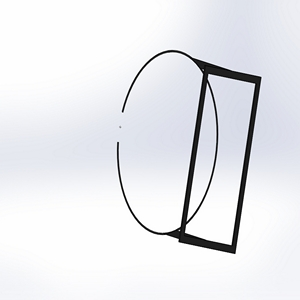circle: (112, 48, 264, 255)
